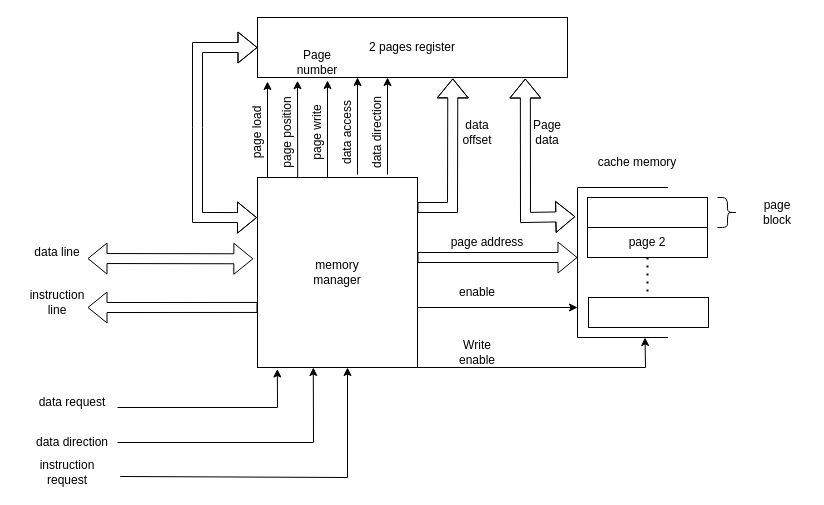
Some shapes in this 824 by 505 pixel diagram are drawn without their labels. The centre of each missing label's shape, as x and y in pixels:
"page 1" belongs at point (647, 212).
"page n" belongs at point (648, 312).
